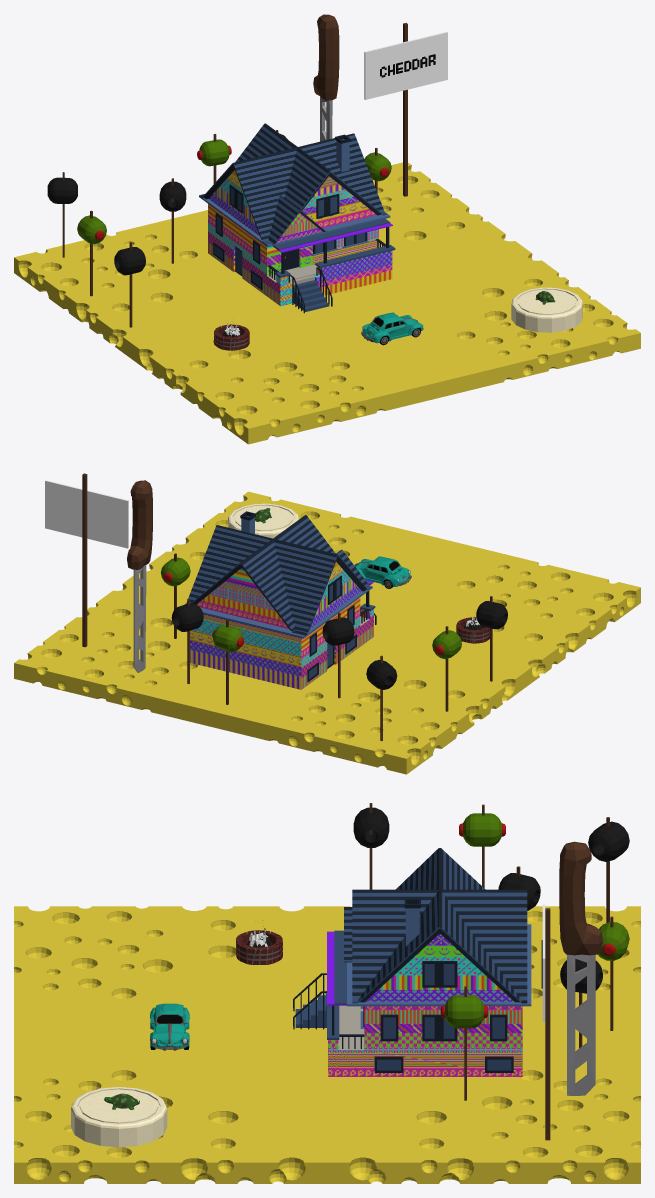
3 renders of one model, top to bottom at view 1: azimuth 30°, elevation 25°; view 2: azimuth 150°, elevation 25°; view 3: azimuth 270°, elevation 25°, orthographic. The views are drawn at different scales.
Parts seen in each view (by area): view 1: Cube.022, Cube.676, Cube.023, Cylinder.016, Cube.024, VEHICLES_VOLKSWAGEN, Sphere.017, Sphere.016, Sphere.020, OBJRANDOM_CAMPFIRE, Sphere.018, Sphere.022 (+1 smaller); view 2: Cube.022, Cube.676, Cube.023, Cube.024, Cylinder.016, VEHICLES_VOLKSWAGEN, Sphere.017, Sphere.020, Sphere.021, Sphere.016, Sphere.018, Sphere.022 (+2 smaller); view 3: Cube.022, Cube.676, Cube.024, Cylinder.016, Cube.023, VEHICLES_VOLKSWAGEN, Sphere.019, Sphere.016, OBJRANDOM_CAMPFIRE, Sphere.018, Sphere.017, Sphere.022 (+2 smaller).
Part boxes in pixels (x1=…): Cube.022: x1=14, y1=162, x2=640, y2=444; Cube.676: x1=199, y1=123, x2=395, y2=313; Cube.023: x1=364, y1=23, x2=447, y2=196; Cylinder.016: x1=511, y1=287, x2=582, y2=332; Cube.024: x1=313, y1=14, x2=339, y2=141; VEHICLES_VOLKSWAGEN: x1=361, y1=312, x2=423, y2=345; Sphere.017: x1=114, y1=242, x2=145, y2=327; Sphere.016: x1=47, y1=172, x2=77, y2=257; Sphere.020: x1=159, y1=178, x2=186, y2=263; OBJRANDOM_CAMPFIRE: x1=213, y1=323, x2=249, y2=350; Sphere.018: x1=77, y1=210, x2=106, y2=296; Sphere.022: x1=197, y1=134, x2=231, y2=183; Cube.022: x1=14, y1=491, x2=640, y2=774; Cube.676: x1=184, y1=511, x2=376, y2=689; Cube.023: x1=45, y1=473, x2=128, y2=647; Cube.024: x1=127, y1=480, x2=152, y2=672; Cylinder.016: x1=228, y1=503, x2=298, y2=538; VEHICLES_VOLKSWAGEN: x1=354, y1=556, x2=411, y2=588; Sphere.017: x1=476, y1=596, x2=507, y2=681; Sphere.020: x1=322, y1=612, x2=354, y2=698; Sphere.021: x1=171, y1=598, x2=203, y2=683; Sphere.016: x1=366, y1=655, x2=397, y2=741; Sphere.018: x1=432, y1=626, x2=461, y2=711; Sphere.022: x1=212, y1=619, x2=244, y2=704; Cube.022: x1=14, y1=906, x2=640, y2=1183; Cube.676: x1=293, y1=848, x2=531, y2=1076; Cube.024: x1=559, y1=841, x2=602, y2=1095; Cylinder.016: x1=71, y1=1086, x2=167, y2=1147; Cube.023: x1=541, y1=904, x2=550, y2=1140; VEHICLES_VOLKSWAGEN: x1=150, y1=1003, x2=189, y2=1050; Sphere.019: x1=441, y1=986, x2=487, y2=1100; Sphere.016: x1=588, y1=817, x2=629, y2=922; OBJRANDOM_CAMPFIRE: x1=236, y1=926, x2=282, y2=964; Sphere.018: x1=459, y1=804, x2=505, y2=888; Sphere.017: x1=353, y1=803, x2=389, y2=889; Sphere.022: x1=598, y1=916, x2=629, y2=1030.
Bounding box in the file's own units: 3917 × 2159 × 4000.
41 materials, 7 textured.
